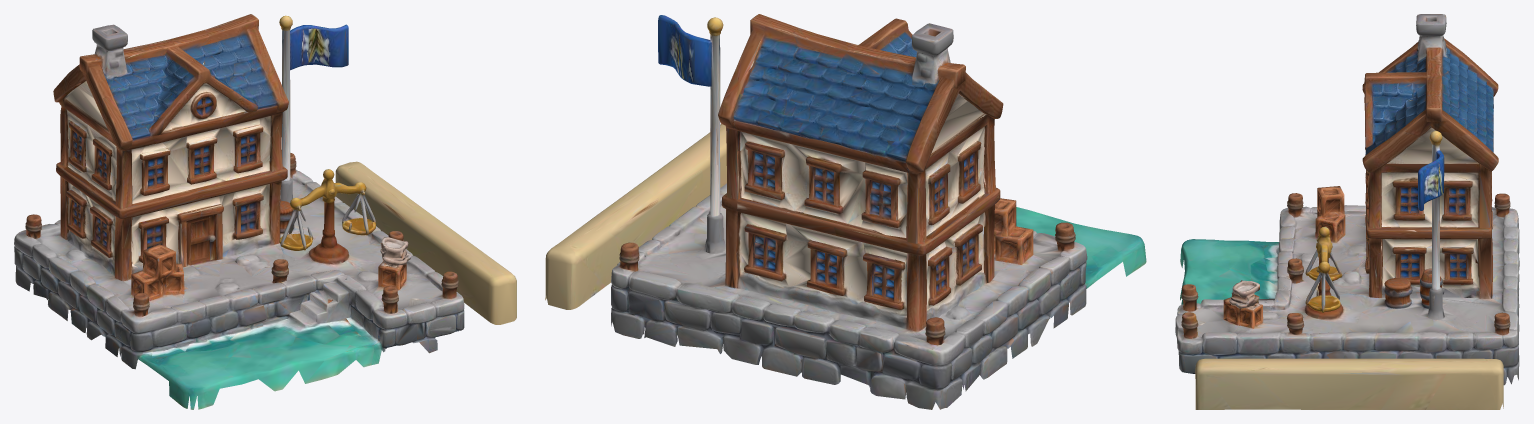
File: m_customs_animated.glb
3 views of the same model, side by side, from view 1: azimuth 30°, elevation 25°; view 2: azimuth 150°, elevation 25°; view 3: azimuth 270°, elevation 25° (orthographic). The views are drawn at different scales.
Visible parts, largest first — view 1: m_customs_Living_Scenery; view 2: m_customs_Living_Scenery; view 3: m_customs_Living_Scenery.
Boxes of the visible parts, x1=… form: m_customs_Living_Scenery: x1=14, y1=14, x2=516, y2=409; m_customs_Living_Scenery: x1=545, y1=14, x2=1146, y2=409; m_customs_Living_Scenery: x1=1175, y1=14, x2=1519, y2=409.
Bounding box in the file's own units: 0.9789 × 0.748 × 0.8899.
Materials: 1 (1 with a texture image).
